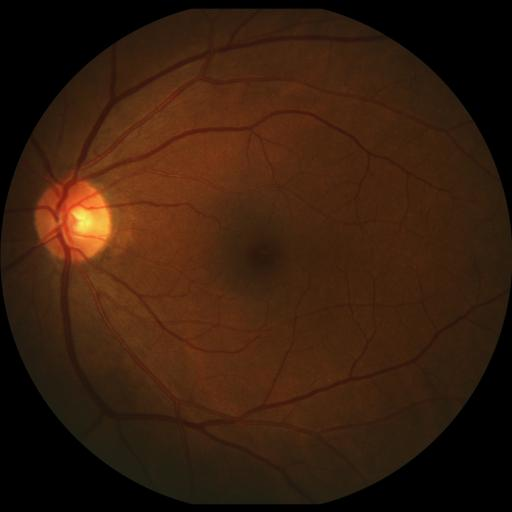Optic Cup: (64, 206, 91, 235)
Optic Disc: (34, 178, 111, 262)
